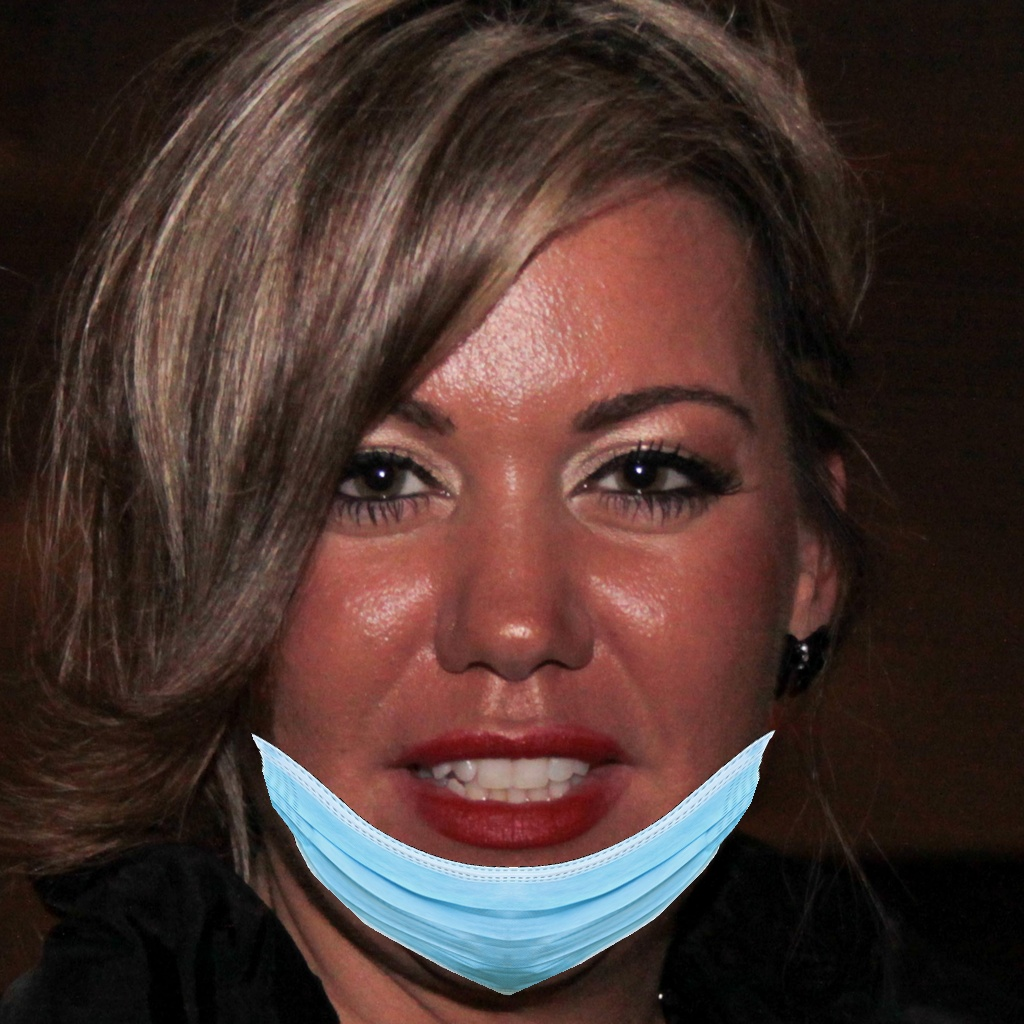mascarilla_mal_puesta: (234, 363, 789, 1023)
